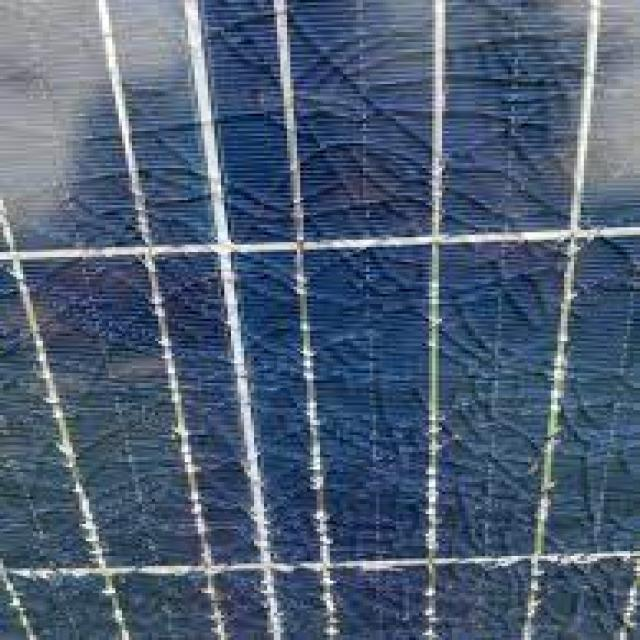faulty: (9, 2, 640, 624)
